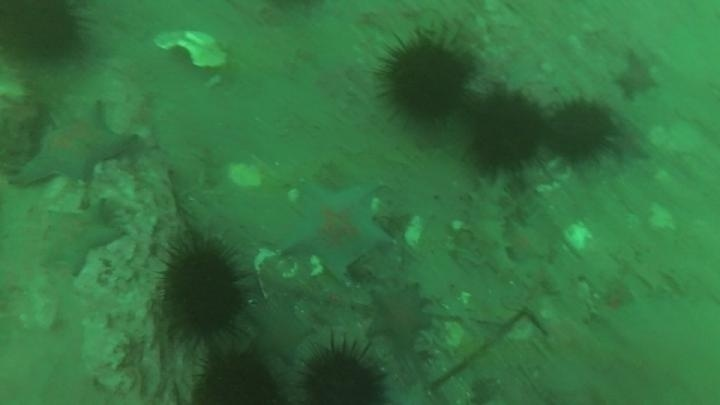echinus: (159, 237, 248, 342), (378, 33, 474, 126), (468, 96, 545, 174), (299, 340, 389, 405), (1, 2, 87, 64), (194, 349, 282, 405), (545, 99, 616, 164)
holothurian: (463, 172, 515, 275)
starfish: (279, 176, 394, 281), (9, 101, 136, 190), (39, 198, 124, 277), (367, 283, 434, 348), (248, 299, 314, 364), (611, 50, 662, 103), (605, 117, 653, 166), (502, 219, 548, 265)
